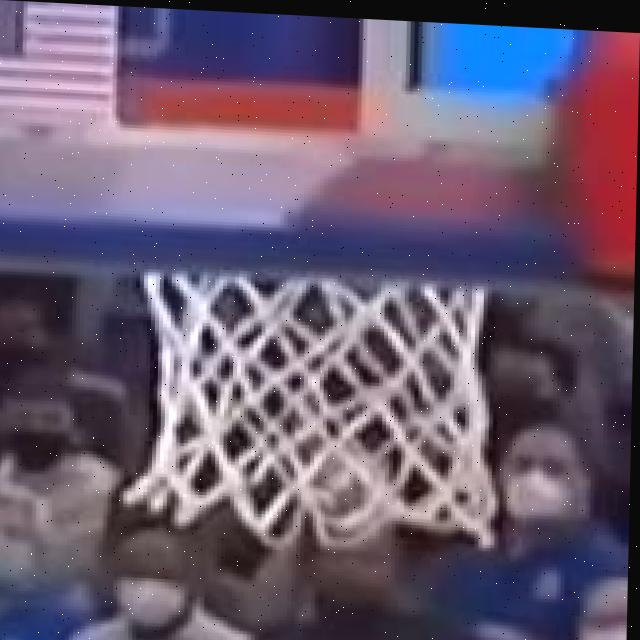hoop: (99, 244, 567, 552)
